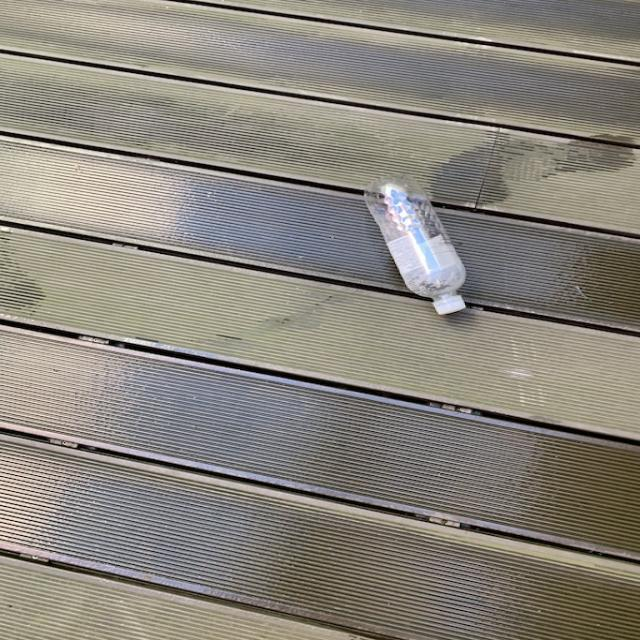plastic_bottle: (364, 174, 466, 316)
